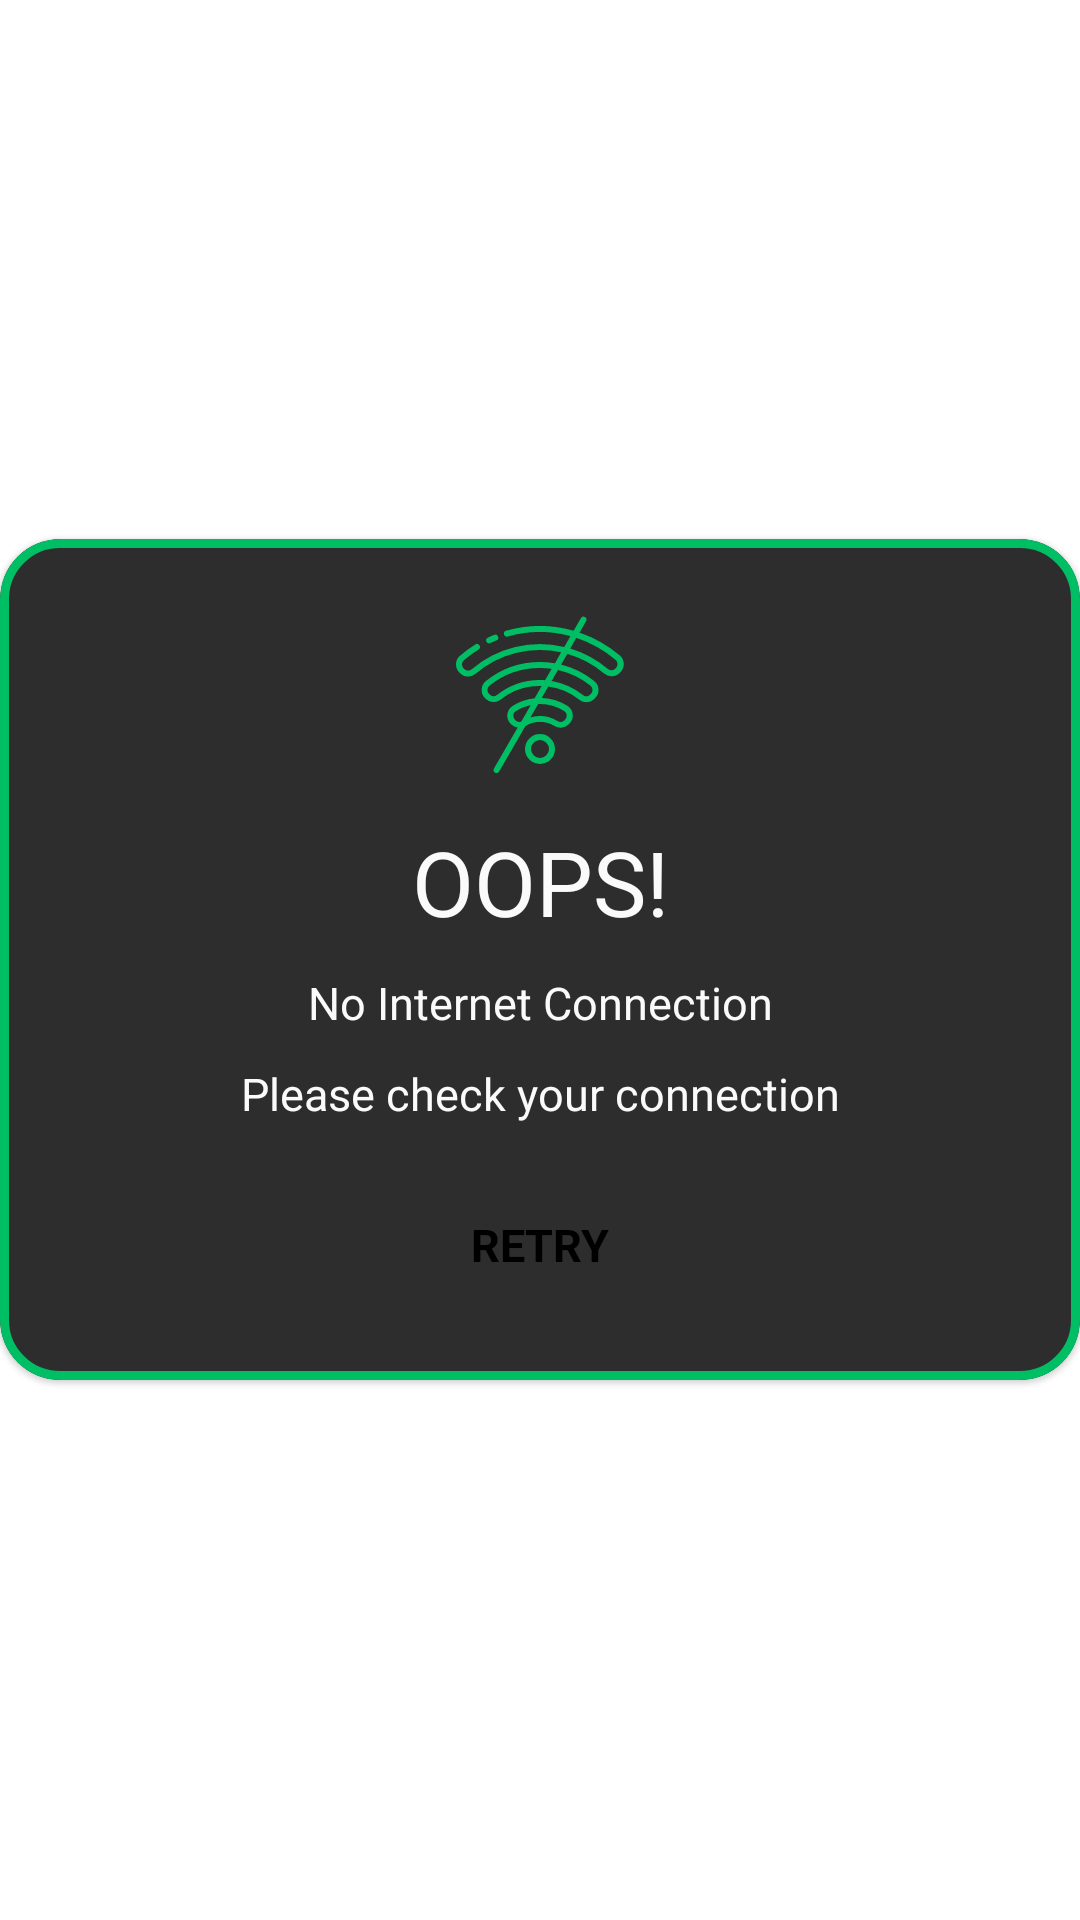

Screen size 1080 × 1920. Icon name, then its center in pixels as (x,y):
no internet connection: (540,694)
